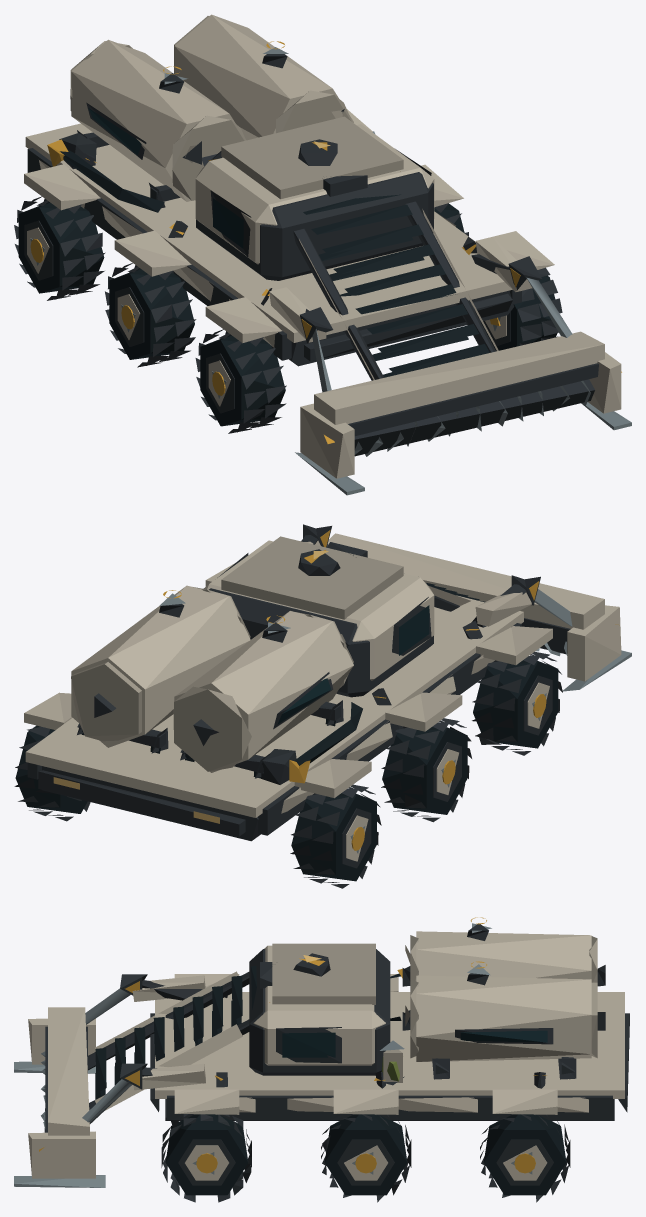
File: yushirover_d0_lod2.glb
The picture shows the model from 3 angles, top to bottom: view 1: azimuth 30°, elevation 25°; view 2: azimuth 150°, elevation 25°; view 3: azimuth 270°, elevation 25°; orthographic projection. The views are drawn at different scales.
Parts seen in each view (by area): view 1: YUSHIROVER_STATIC_SURFACE; view 2: YUSHIROVER_STATIC_SURFACE; view 3: YUSHIROVER_STATIC_SURFACE.
Boxes of the visible parts, x1,y1,x2,y2 form: YUSHIROVER_STATIC_SURFACE: [14, 14, 631, 495]; YUSHIROVER_STATIC_SURFACE: [14, 524, 631, 888]; YUSHIROVER_STATIC_SURFACE: [14, 917, 629, 1202].
Bounding box in the file's own units: 5.43 × 3.53 × 10.3.
